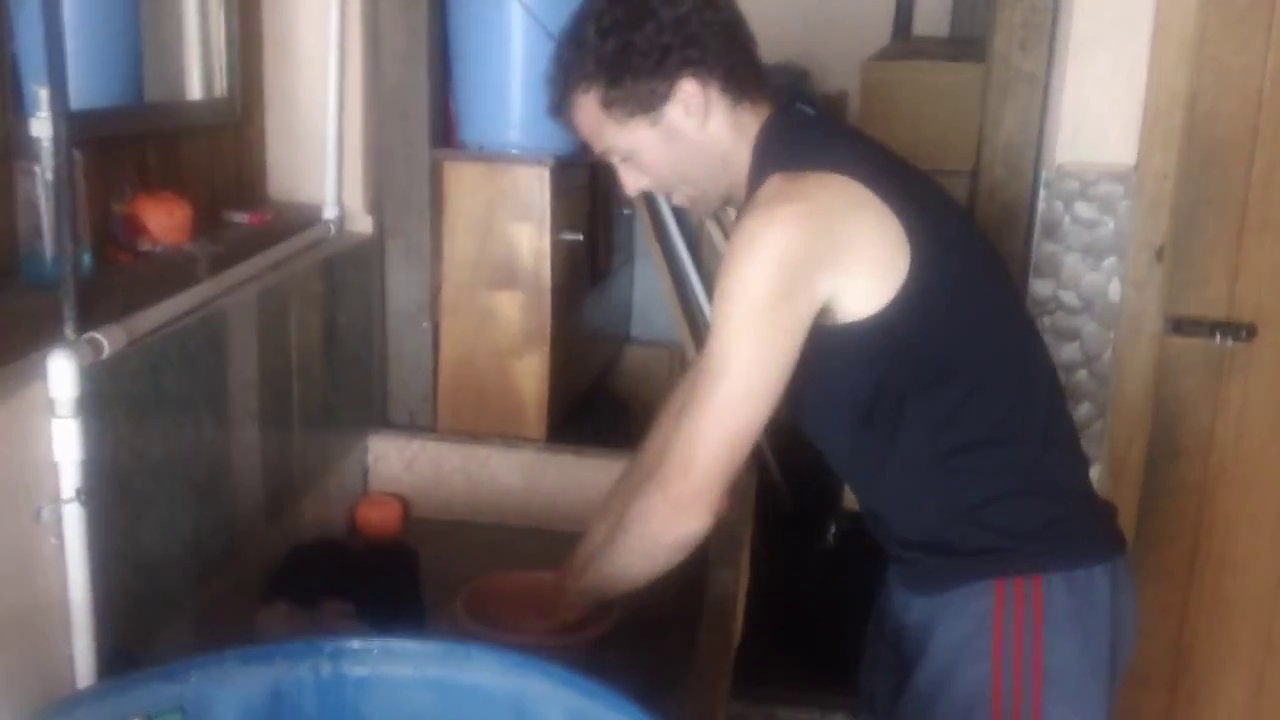person: (528, 2, 1135, 720)
